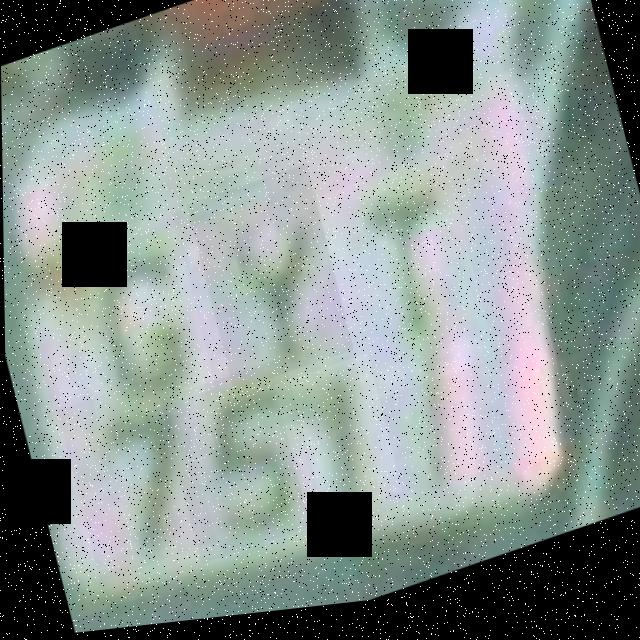5: (158, 360, 323, 571)
7: (56, 370, 215, 586), (273, 358, 400, 532)
C: (54, 210, 215, 434)
T: (313, 159, 494, 415)
Y: (185, 166, 353, 399)
